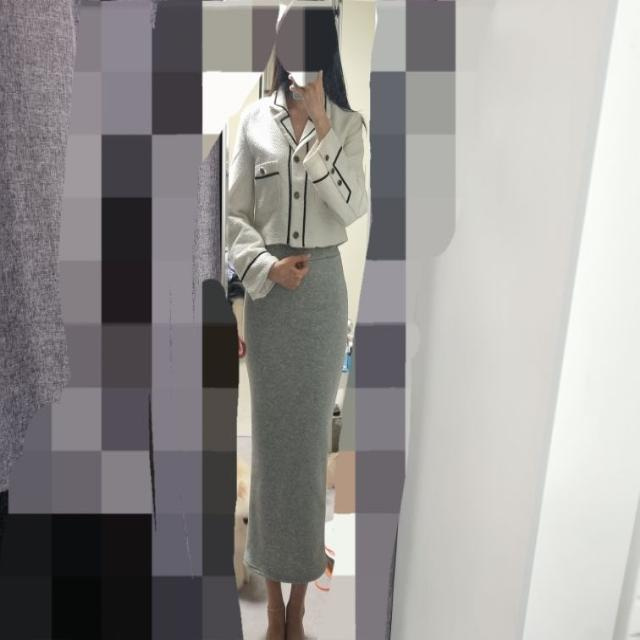blazer: (226, 78, 367, 301)
skirt: (245, 244, 350, 588)
